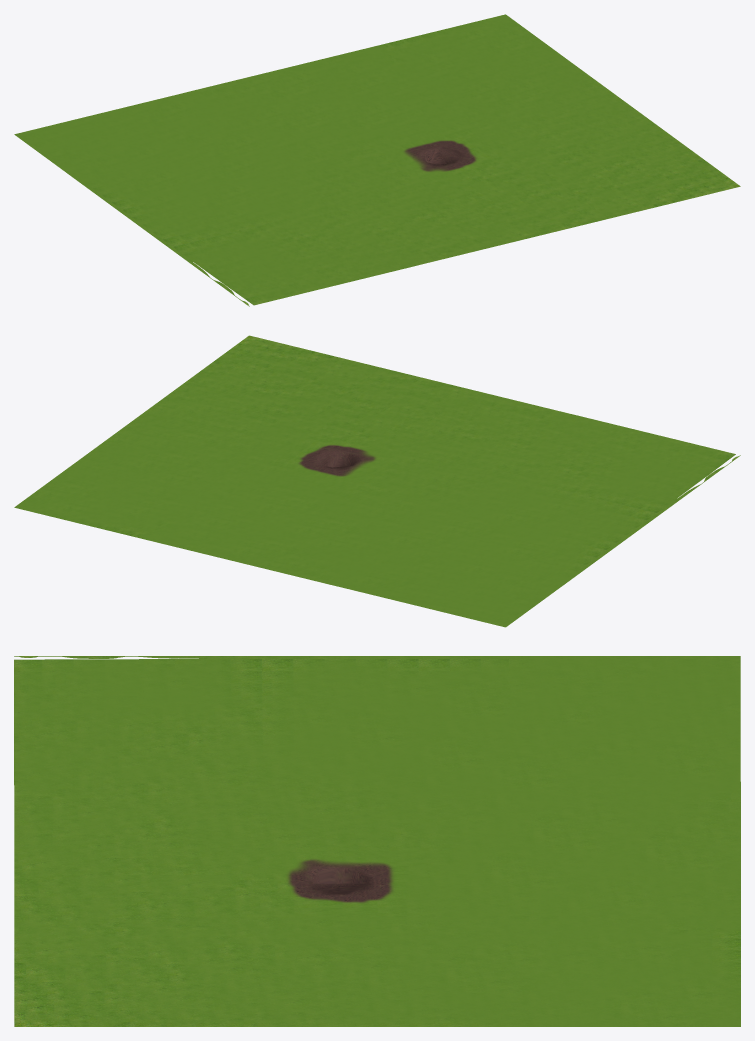
Rendered from Map1.fbx.
3 views of the same model, one above another, from view 1: azimuth 30°, elevation 25°; view 2: azimuth 150°, elevation 25°; view 3: azimuth 270°, elevation 25° (orthographic). The views are drawn at different scales.
Visible parts, largest first — view 1: Plane; view 2: Plane; view 3: Plane.
Part boxes in pixels (x1,y1,x2,y2): Plane: [14, 14, 740, 306]; Plane: [14, 335, 740, 627]; Plane: [14, 656, 740, 1026].
Bounding box in the file's own units: 59.88 × 6.56 × 49.61.
